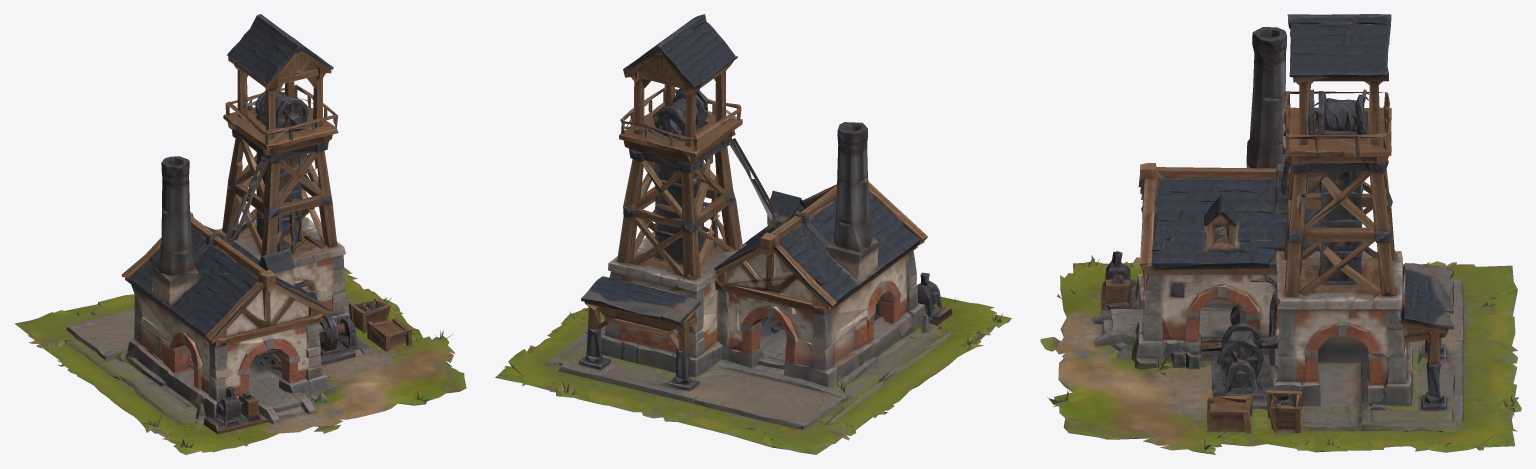
File: minecamp.glb
The picture shows the model from 3 angles, left to right: view 1: azimuth 30°, elevation 25°; view 2: azimuth 150°, elevation 25°; view 3: azimuth 270°, elevation 25°; orthographic projection. The views are drawn at different scales.
Bounding box in the file's own units: 1.81 × 1.57 × 1.85.
1 material, 1 textured.
